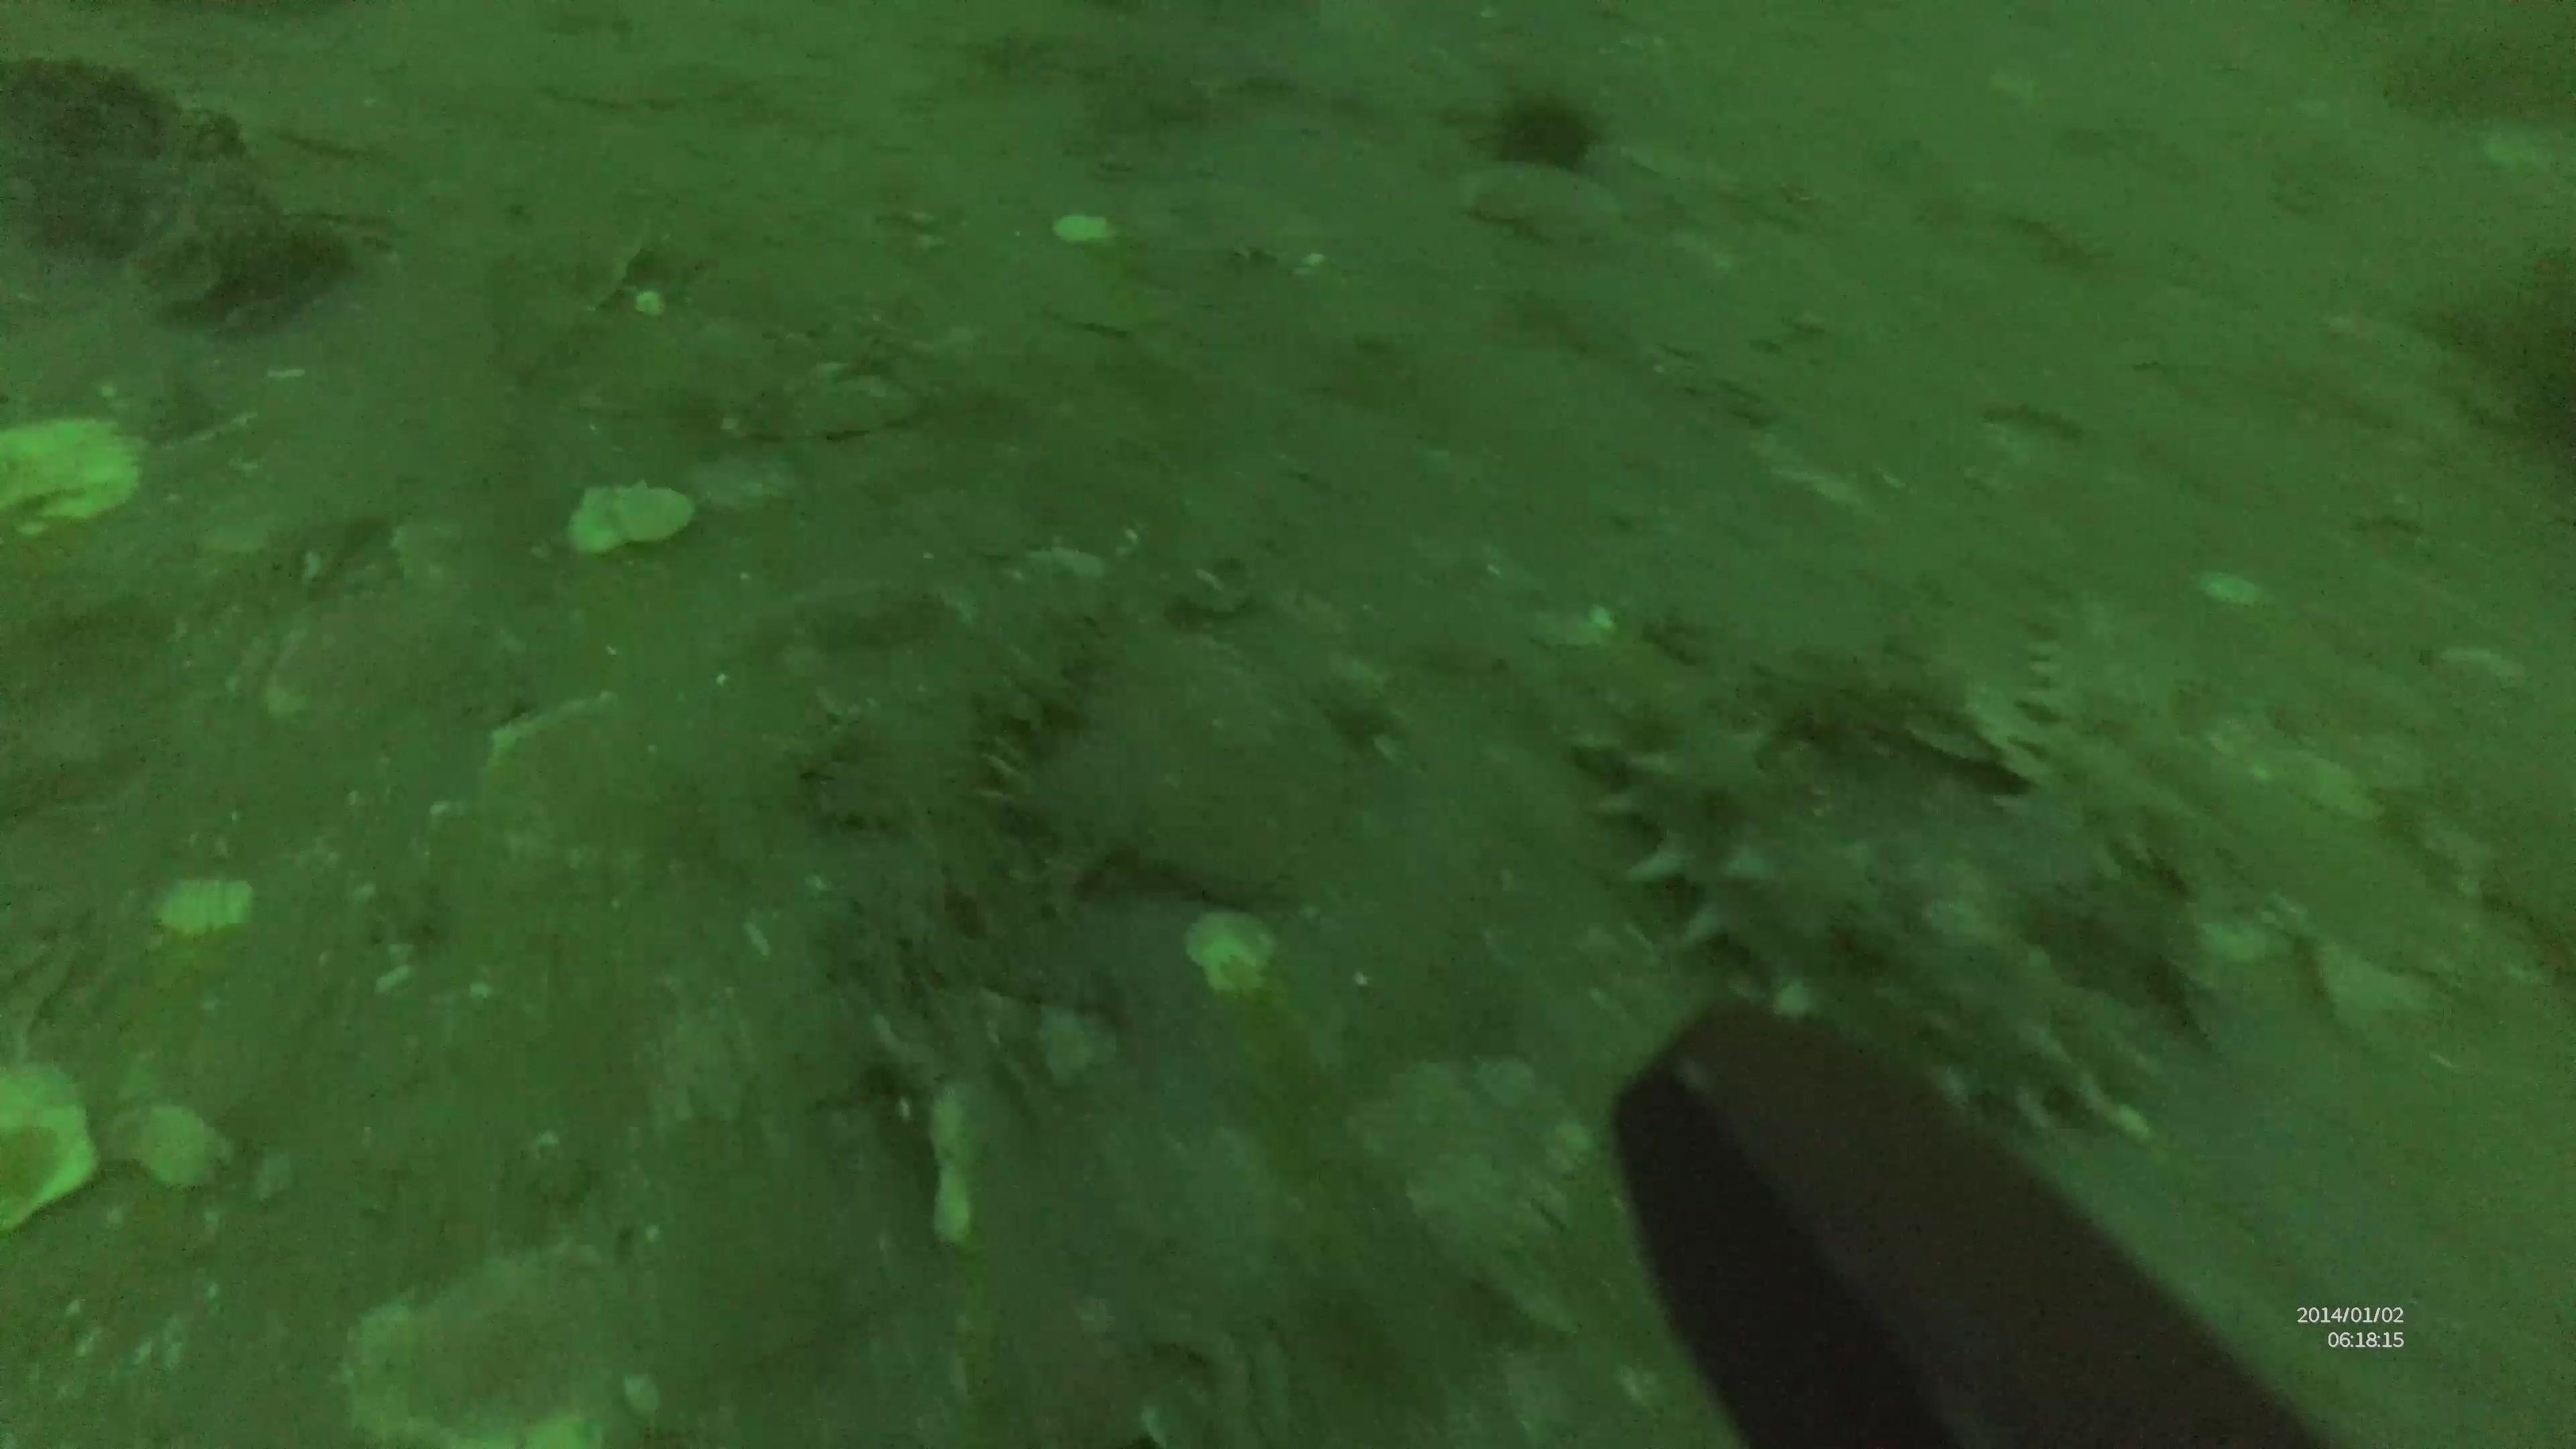echinus: (1497, 94, 1601, 179)
holothurian: (1573, 679, 2166, 1145), (1980, 579, 2155, 902)
scallop: (1343, 1030, 1598, 1267), (1472, 157, 1629, 246), (2314, 939, 2450, 1033), (2281, 732, 2390, 830), (1178, 908, 1286, 1000), (2181, 895, 2304, 959), (2192, 550, 2284, 621), (1511, 591, 1629, 644), (2442, 633, 2535, 699), (1316, 649, 1399, 711), (2482, 126, 2565, 182)
starfish: (101, 1099, 230, 1200)
